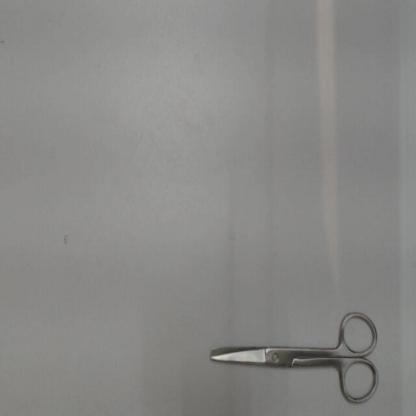Dressing Scissors: (198, 304, 384, 412)
